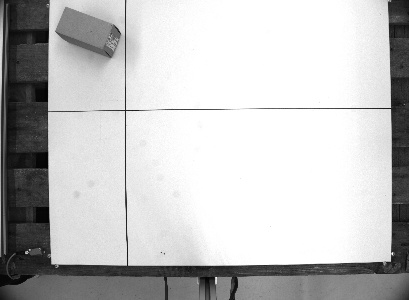b2: (51, 5, 123, 60)
